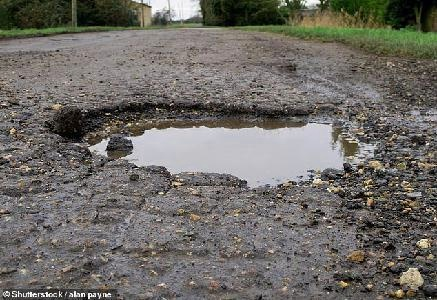pothole: (45, 98, 394, 192)
